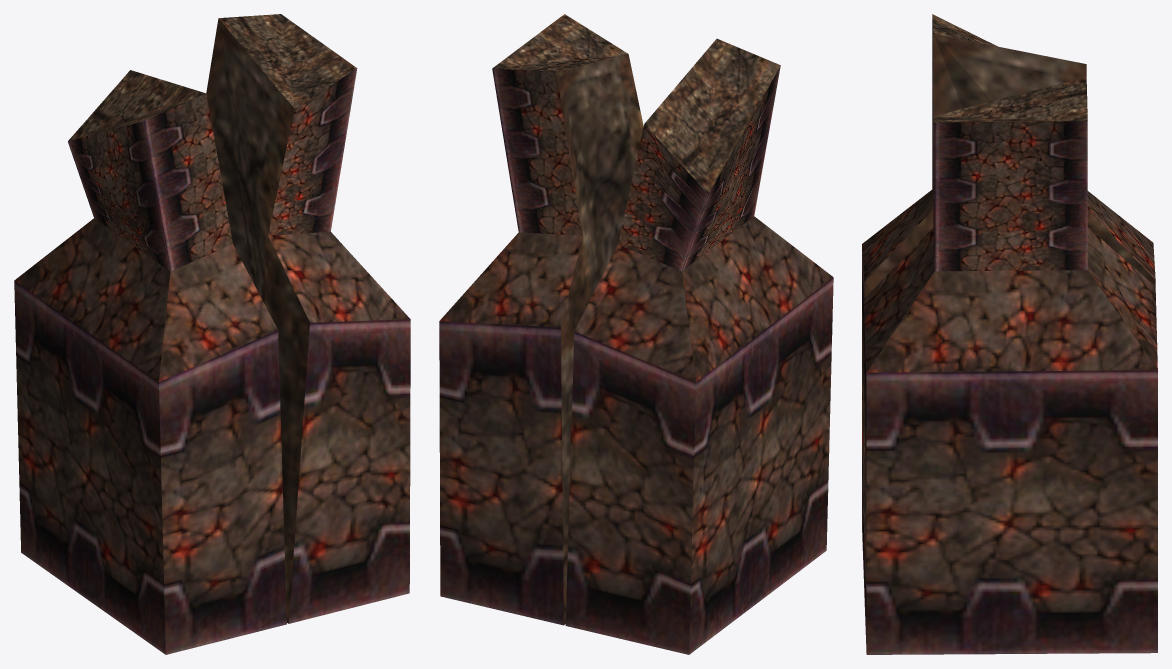
File: column-B-destr_01.FBX
The picture shows the model from 3 angles, left to right: view 1: azimuth 30°, elevation 25°; view 2: azimuth 150°, elevation 25°; view 3: azimuth 270°, elevation 25°; orthographic projection. The views are drawn at different scales.
Parts seen in each view (by area): view 1: column-B-destr_01; view 2: column-B-destr_01; view 3: column-B-destr_01.
Part boxes in pixels (bbox=[...]): column-B-destr_01: bbox=[14, 14, 410, 654]; column-B-destr_01: bbox=[439, 14, 833, 654]; column-B-destr_01: bbox=[862, 14, 1157, 654].
Bounding box in the file's own units: 1.31 × 2.52 × 1.26.
